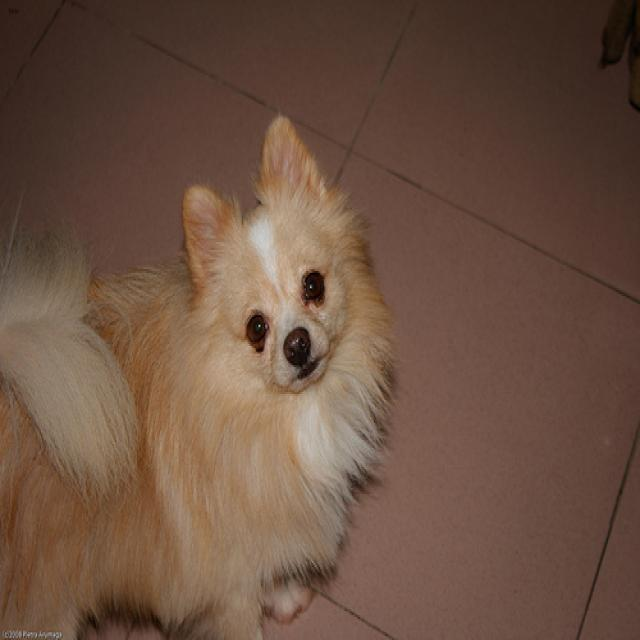dog-pomeranian: (1, 104, 397, 636)
